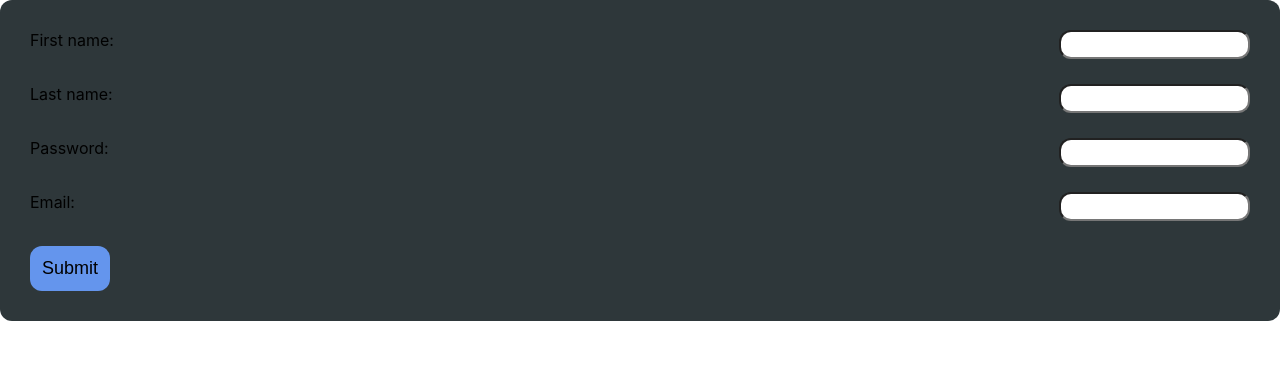
Test: check for errors if wrong email is passed
# Set input values
Type "John" into the field labelled "First name:". click: point(1154, 44)
box: [1059,30,1250,59]
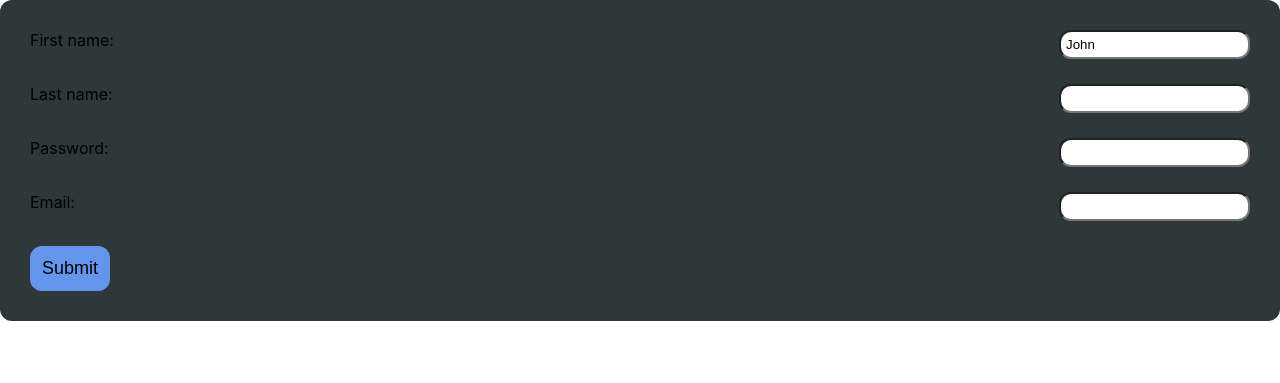
Type "Abcd" into the field labelled "Last name:". click: point(1154, 98)
box: [1059,84,1250,113]
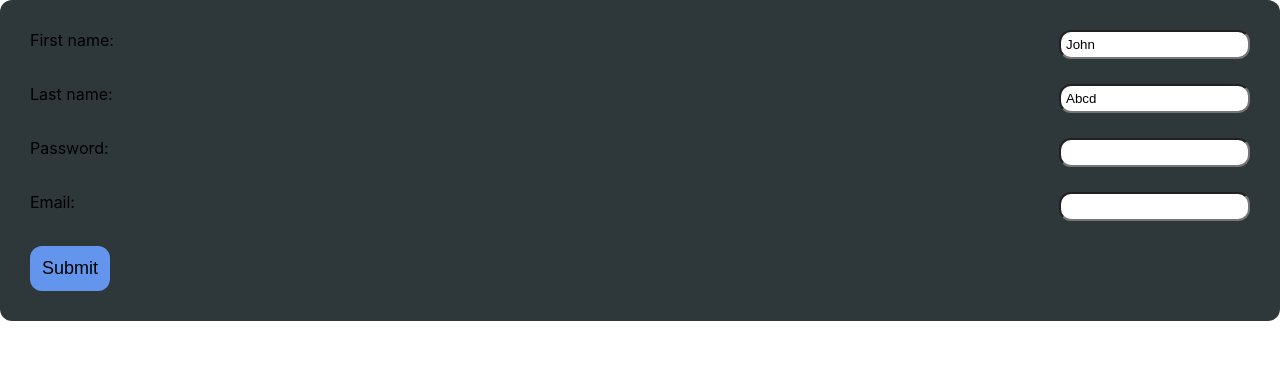
Type "johndoeexamplecom" into the field labelled "Email:". click: point(1154, 206)
box: [1059,192,1250,221]
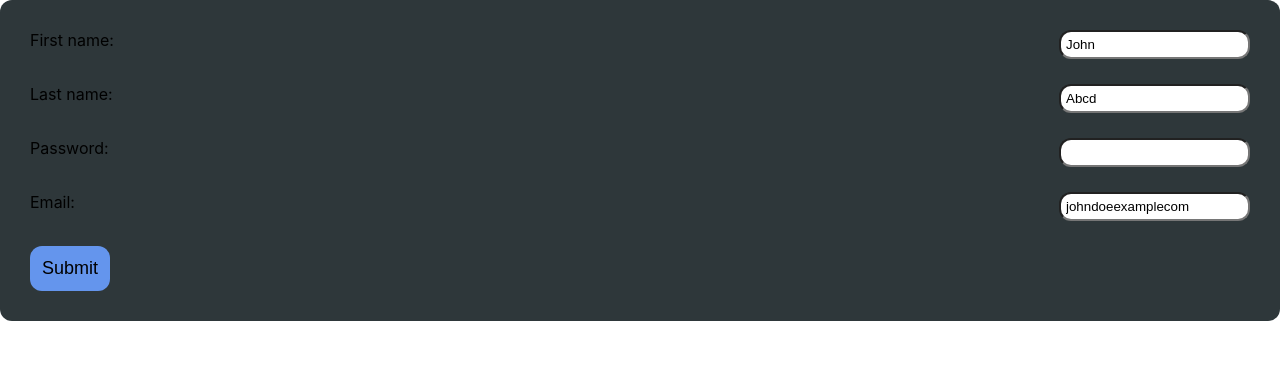
Type "Password#45" into the password field labelled "Password:". click: point(1154, 152)
box: [1059,138,1250,167]
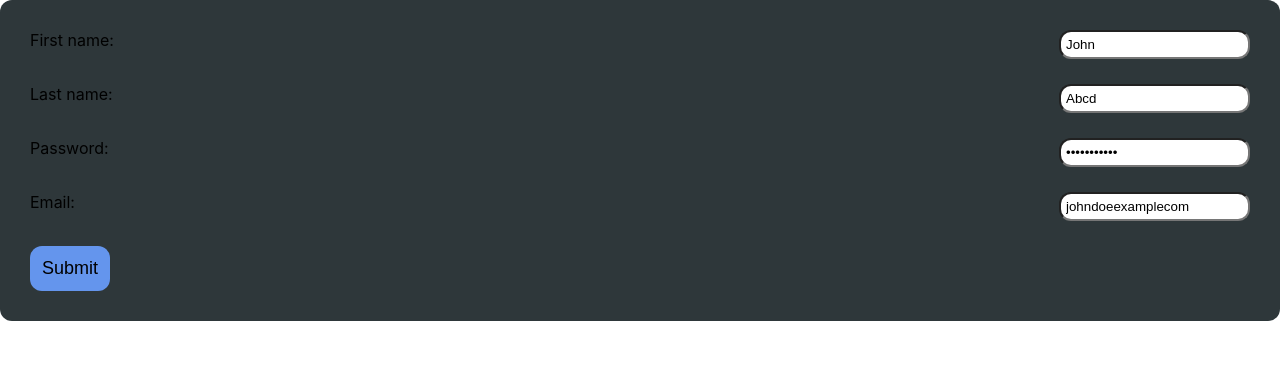
# Trigger form submission
Click the button "Submit". click: point(70, 268)
box: [30,246,110,291]
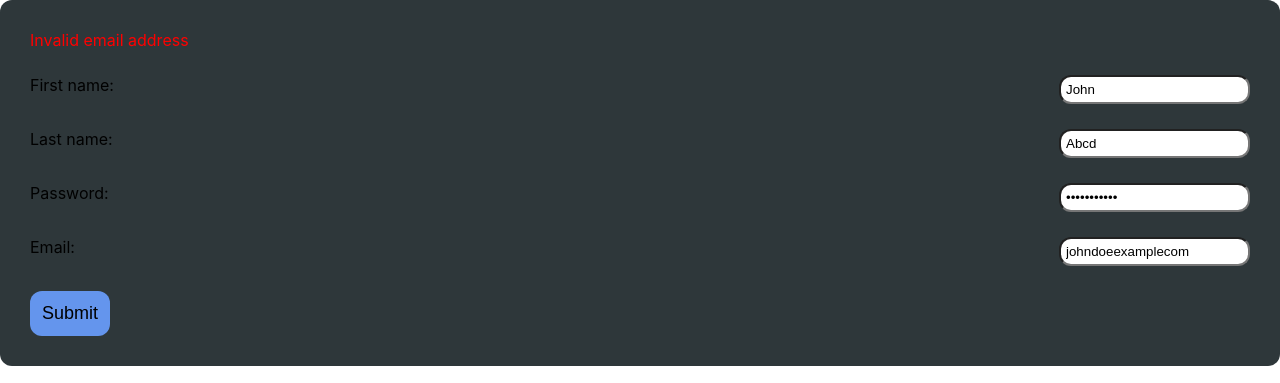
Result: the text "Invalid email address" is shown at [30,30,189,50]
